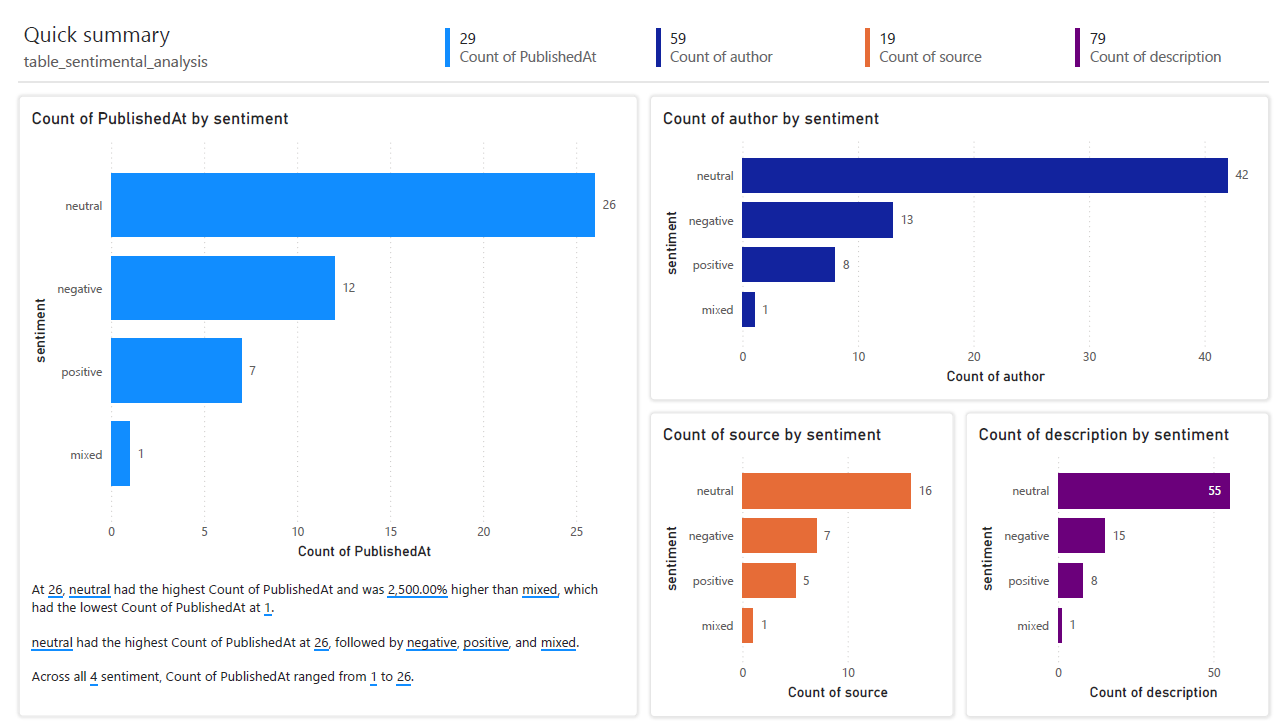

This screenshot's page, from the dashboard's own definition file:
{"tool":"powerbi","page":{"name":"Page 1","canvas":[1280,720],"ordinal":0},"visuals":[{"type":"shape","box":[12,58,1256,26],"z":0},{"type":"shape","box":[12,84,622,624],"z":1000},{"type":"shape","box":[646,84,622,306],"z":2000},{"type":"shape","box":[646,402,305,306],"z":3000},{"type":"shape","box":[963,402,305,306],"z":4000},{"type":"clusteredBarChart","fields":{"Category":["table_sentimental_analysis.sentiment"],"Y":["Count(table_sentimental_analysis.description)"]},"box":[971,414,289,282],"z":5000},{"type":"clusteredBarChart","fields":{"Category":["table_sentimental_analysis.sentiment"],"Y":["Count(table_sentimental_analysis.source)"]},"box":[654,414,289,282],"z":6000},{"type":"clusteredBarChart","fields":{"Category":["table_sentimental_analysis.sentiment"],"Y":["Count(table_sentimental_analysis.author)"]},"box":[654,96,606,282],"z":7000},{"type":"textbox","box":[20,566,606,129],"z":8000},{"type":"clusteredBarChart","fields":{"Category":["table_sentimental_analysis.sentiment"],"Y":["Count(table_sentimental_analysis.PublishedAt)"]},"box":[20,96,606,458],"z":9000},{"type":"multiRowCard","fields":{"Values":["Count(table_sentimental_analysis.description)"]},"box":[1069,12,199,50],"z":10000},{"type":"multiRowCard","fields":{"Values":["Count(table_sentimental_analysis.source)"]},"box":[858,12,199,50],"z":11000},{"type":"multiRowCard","fields":{"Values":["Count(table_sentimental_analysis.author)"]},"box":[647,12,199,50],"z":12000},{"type":"multiRowCard","fields":{"Values":["Count(table_sentimental_analysis.PublishedAt)"]},"box":[436,12,199,50],"z":13000},{"type":"textbox","box":[12,33,306,32],"z":14000},{"type":"textbox","box":[12,2,306,39],"z":15000}]}

Visuals, with their boxes in screenshot pixels (x1, y1, x2, y2), scaled from the page's 1280x720 canvas onto the 1284x728 screenshot:
shape: {"x1": 12, "y1": 59, "x2": 1272, "y2": 85}
shape: {"x1": 12, "y1": 85, "x2": 636, "y2": 716}
shape: {"x1": 648, "y1": 85, "x2": 1272, "y2": 394}
shape: {"x1": 648, "y1": 406, "x2": 954, "y2": 716}
shape: {"x1": 966, "y1": 406, "x2": 1272, "y2": 716}
clusteredBarChart - table_sentimental_analysis.sentiment x Count(table_sentimental_analysis.description): {"x1": 974, "y1": 419, "x2": 1264, "y2": 704}
clusteredBarChart - table_sentimental_analysis.sentiment x Count(table_sentimental_analysis.source): {"x1": 656, "y1": 419, "x2": 946, "y2": 704}
clusteredBarChart - table_sentimental_analysis.sentiment x Count(table_sentimental_analysis.author): {"x1": 656, "y1": 97, "x2": 1264, "y2": 382}
textbox: {"x1": 20, "y1": 572, "x2": 628, "y2": 703}
clusteredBarChart - table_sentimental_analysis.sentiment x Count(table_sentimental_analysis.PublishedAt): {"x1": 20, "y1": 97, "x2": 628, "y2": 560}
multiRowCard - Count(table_sentimental_analysis.description): {"x1": 1072, "y1": 12, "x2": 1272, "y2": 63}
multiRowCard - Count(table_sentimental_analysis.source): {"x1": 861, "y1": 12, "x2": 1060, "y2": 63}
multiRowCard - Count(table_sentimental_analysis.author): {"x1": 649, "y1": 12, "x2": 849, "y2": 63}
multiRowCard - Count(table_sentimental_analysis.PublishedAt): {"x1": 437, "y1": 12, "x2": 637, "y2": 63}
textbox: {"x1": 12, "y1": 33, "x2": 319, "y2": 66}
textbox: {"x1": 12, "y1": 2, "x2": 319, "y2": 41}
